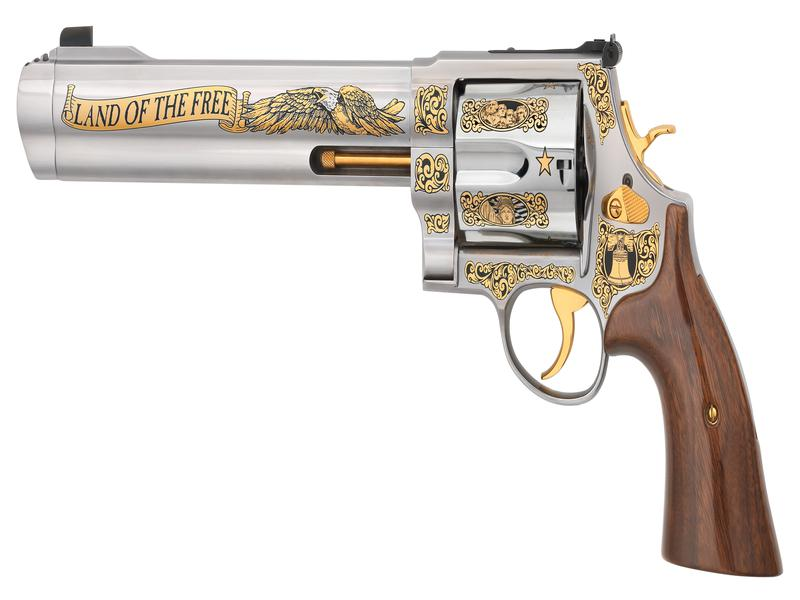Revolver: (17, 22, 792, 577)
